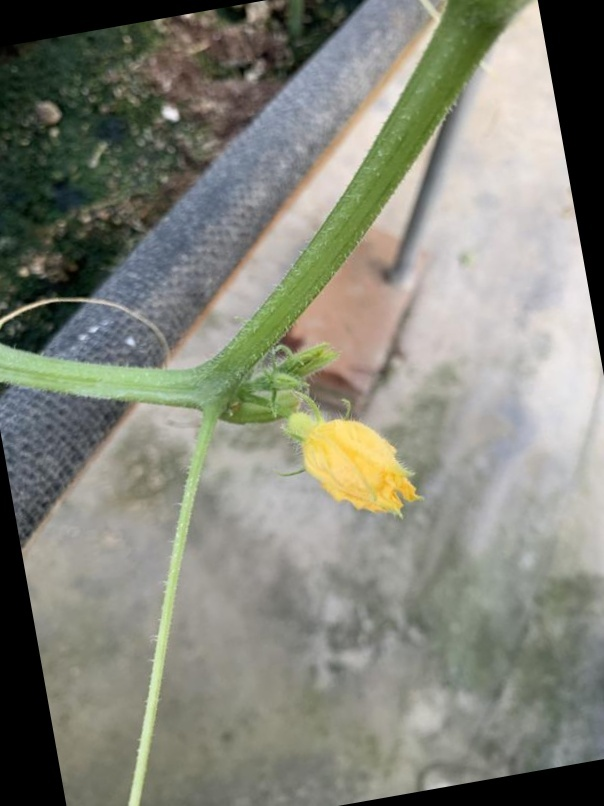bud: (272, 395, 449, 534)
